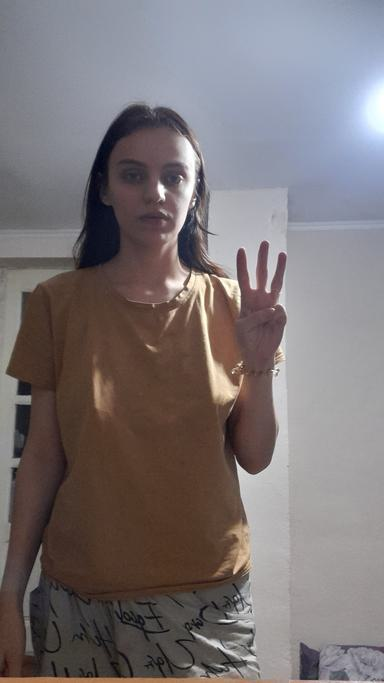three: (229, 237, 289, 367)
